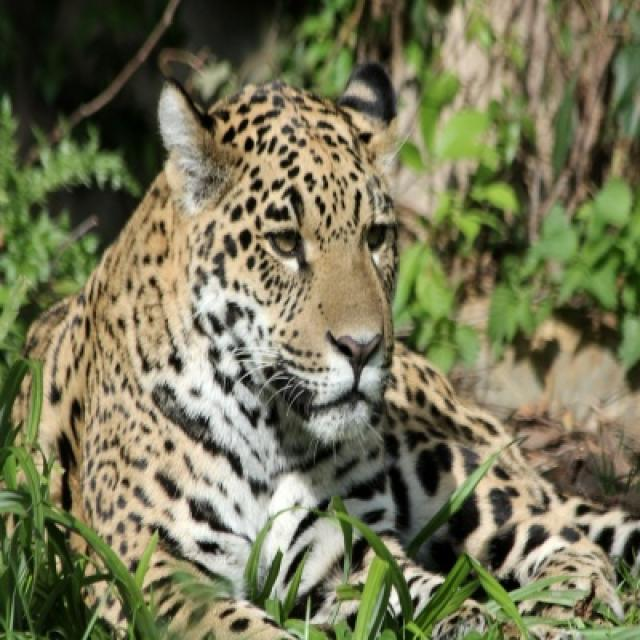Jaguar: (24, 54, 638, 638)
